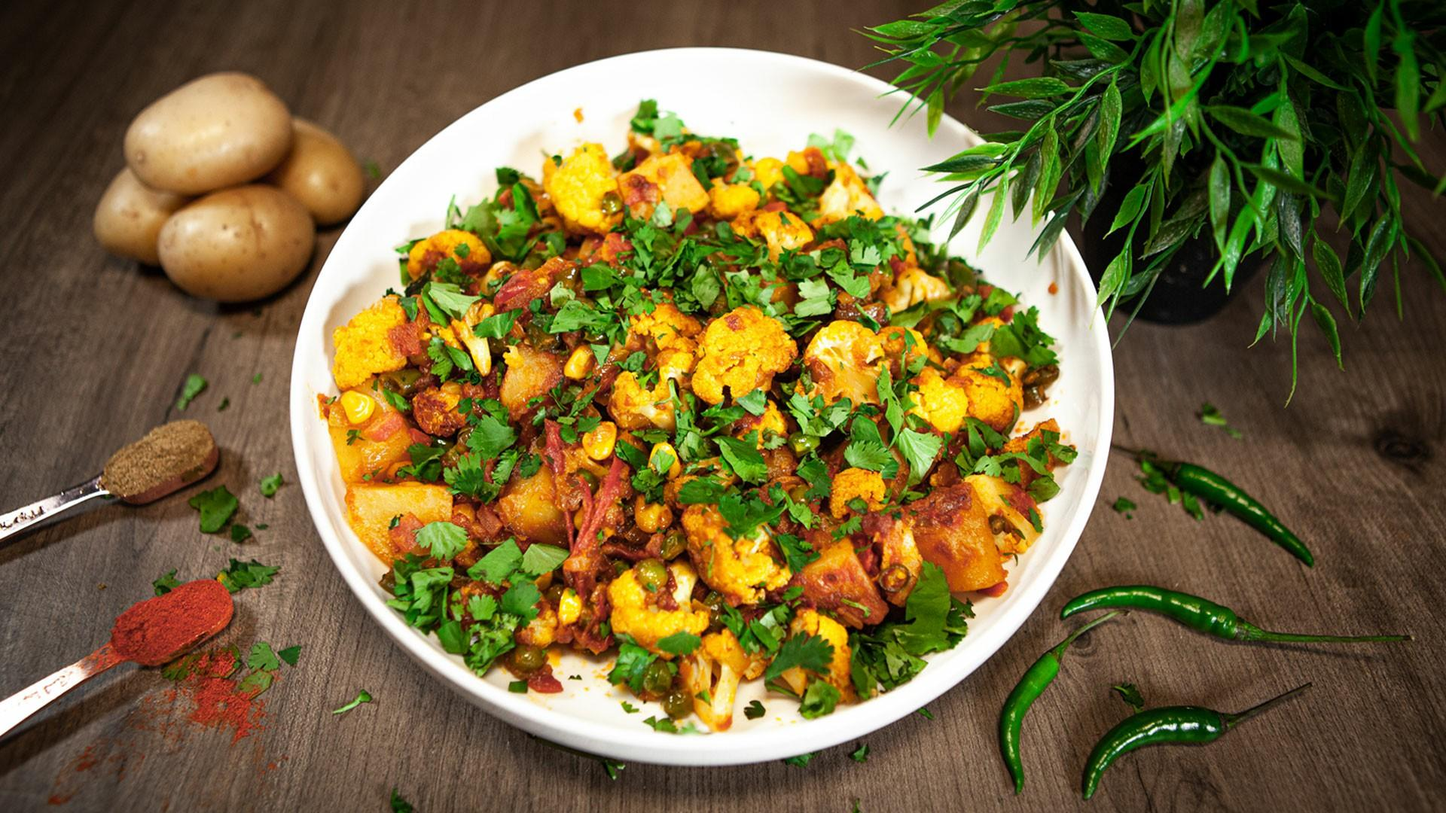AlooGobi: (314, 98, 1078, 737)
